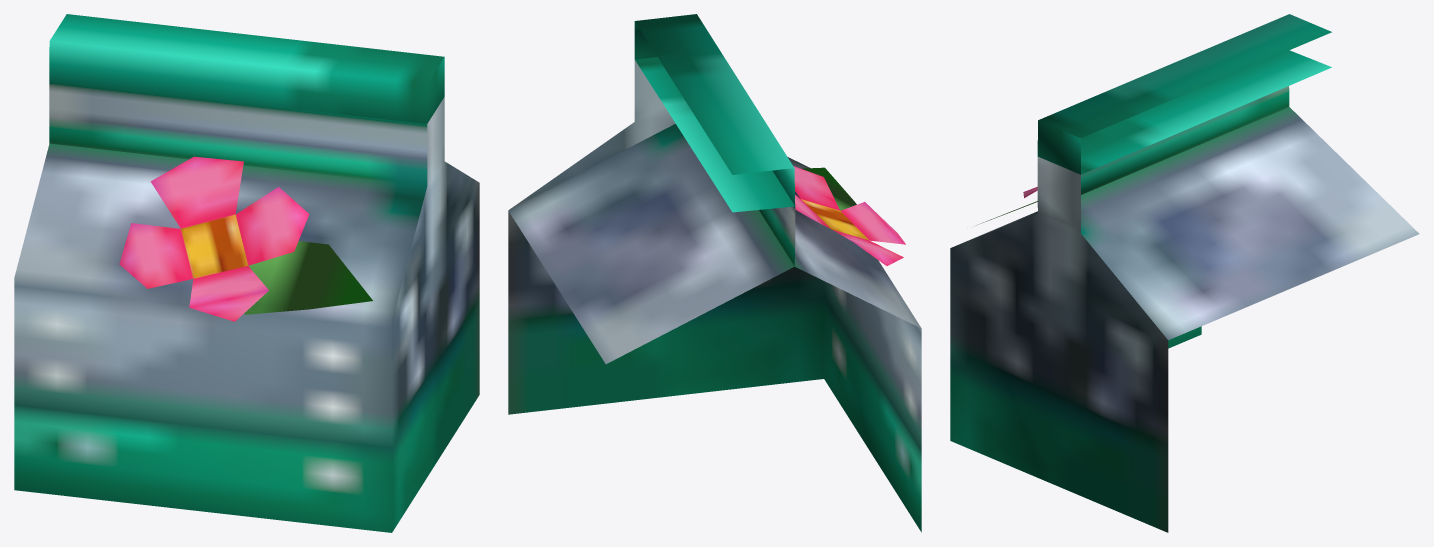
The model's file is fg_S_toolbox_C_out.dae.
The picture shows the model from 3 angles, left to right: view 1: azimuth 30°, elevation 25°; view 2: azimuth 150°, elevation 25°; view 3: azimuth 270°, elevation 25°; orthographic projection. The views are drawn at different scales.
Visible parts, largest first — view 1: fg_S_toolbox_C_out; view 2: fg_S_toolbox_C_out; view 3: fg_S_toolbox_C_out.
Part boxes in pixels (x1,y1,x2,y2): fg_S_toolbox_C_out: (14,14,479,532); fg_S_toolbox_C_out: (508,14,921,532); fg_S_toolbox_C_out: (950,14,1419,532).
Bounding box in the file's own units: 19.8 × 16.64 × 19.8.
1 material, 1 textured.
